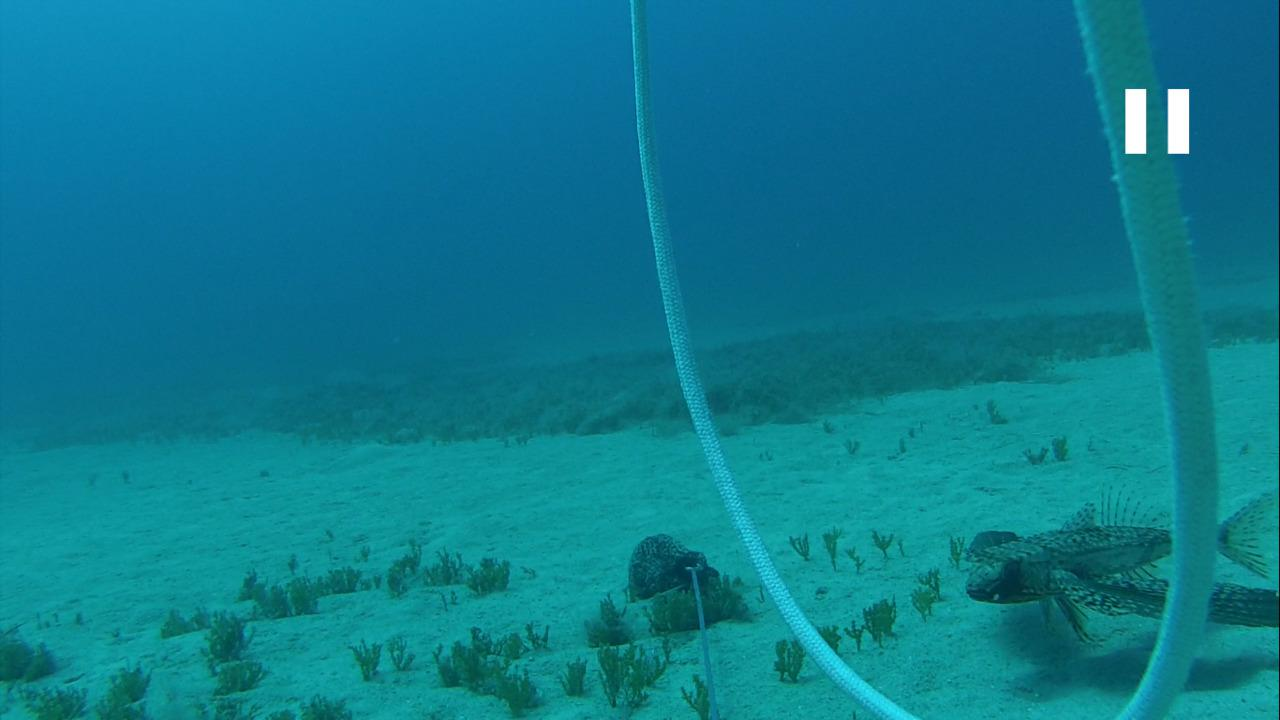dactylopterus: (958, 495, 1274, 641)
